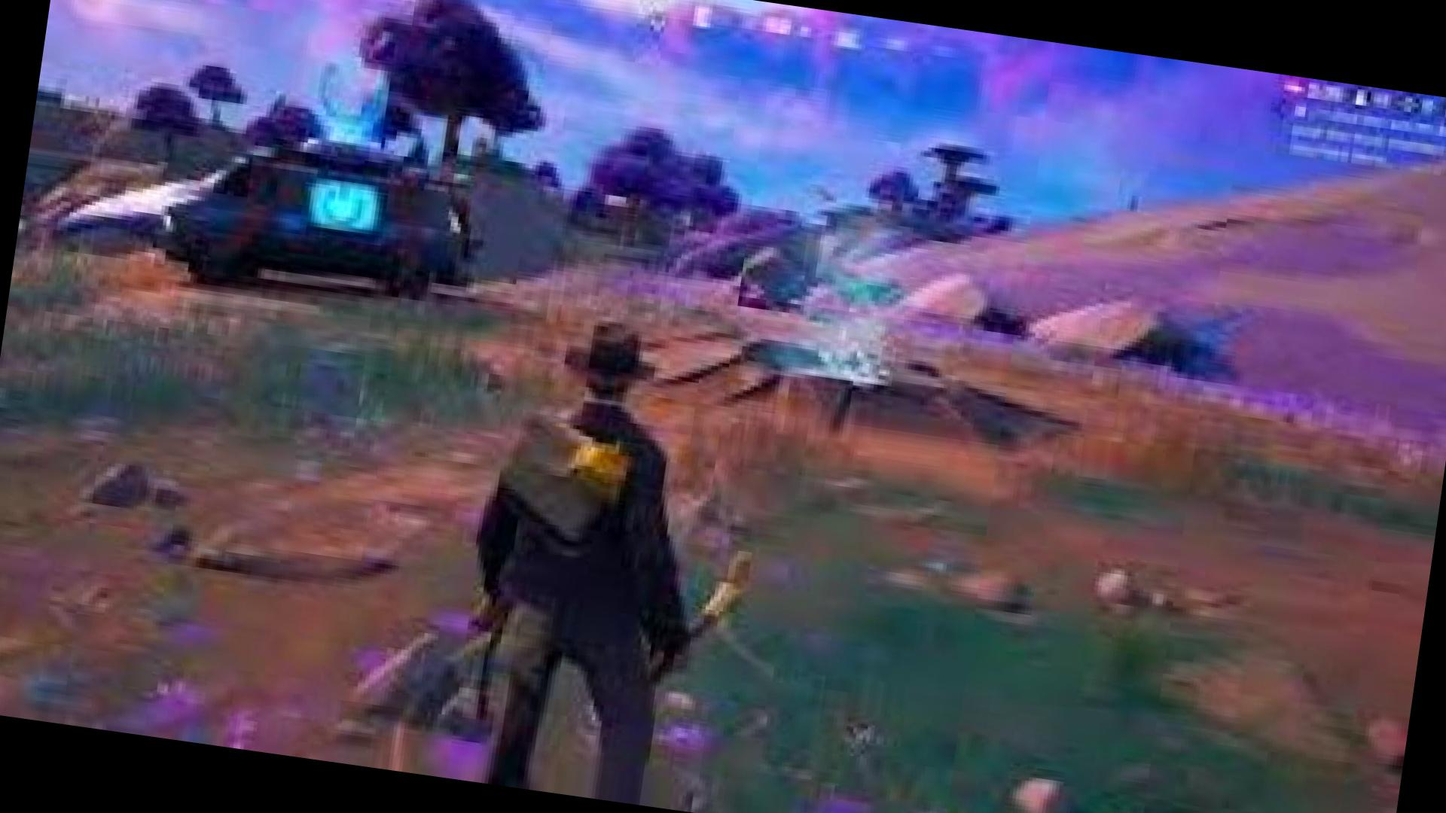player: (457, 288, 718, 782)
